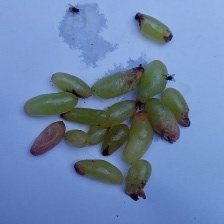grapes: (13, 0, 191, 188)
